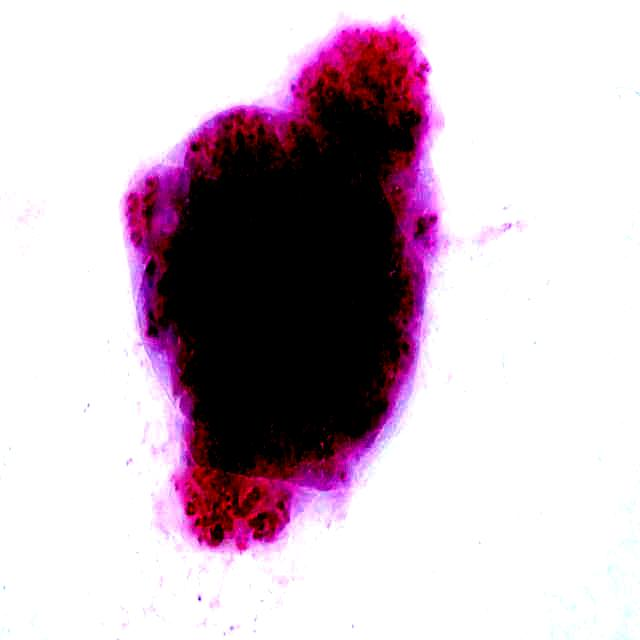VASC: (127, 23, 439, 547)
